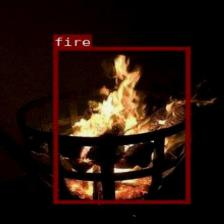fire: (53, 46, 190, 203)
